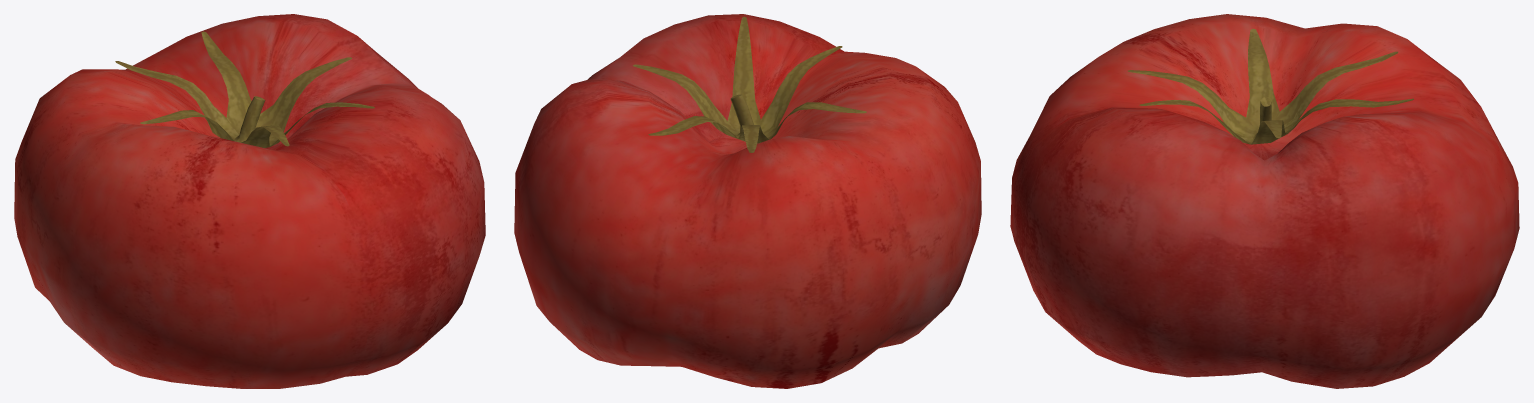
The picture shows the model from 3 angles, left to right: view 1: azimuth 30°, elevation 25°; view 2: azimuth 150°, elevation 25°; view 3: azimuth 270°, elevation 25°; orthographic projection. The views are drawn at different scales.
Parts seen in each view (by area): view 1: Tomato.002, Tomato.008; view 2: Tomato.002, Tomato.008; view 3: Tomato.002, Tomato.008.
Boxes of the visible parts, left/top/right/bottom form: Tomato.002: left=14, top=14, right=485, bottom=388; Tomato.008: left=115, top=31, right=374, bottom=147; Tomato.002: left=514, top=14, right=981, bottom=388; Tomato.008: left=633, top=16, right=866, bottom=152; Tomato.002: left=1010, top=14, right=1519, bottom=388; Tomato.008: left=1127, top=28, right=1413, bottom=144.
Size of the model in its own units: 31.21 by 19.28 by 34.07.
1 material, 1 textured.
